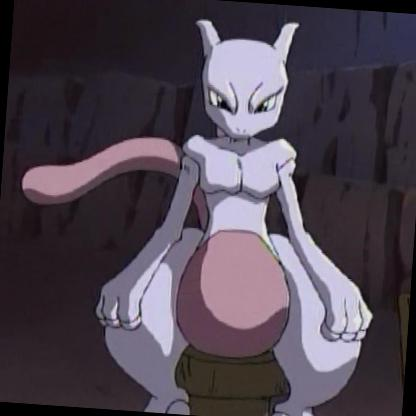Mewtu: (2, 2, 415, 415)
